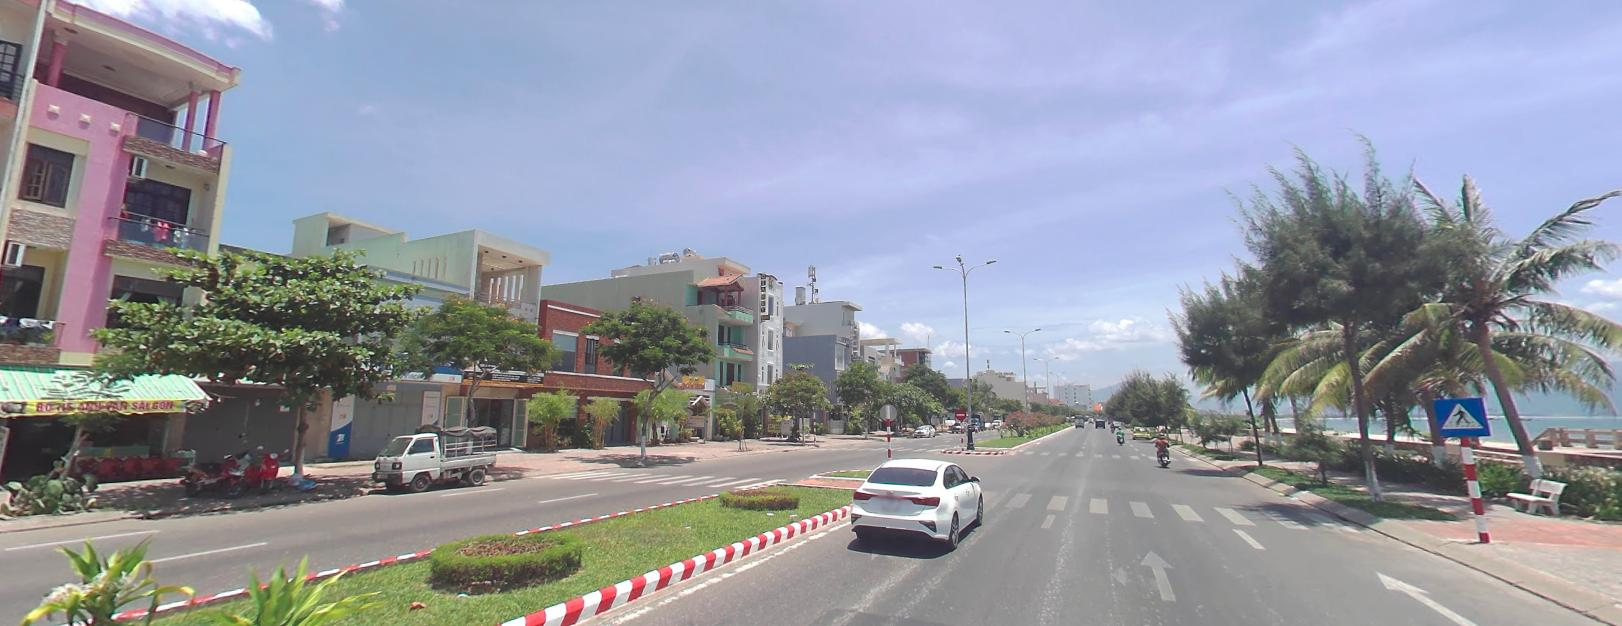Cam nguoc chieu: (955, 407, 965, 418)
